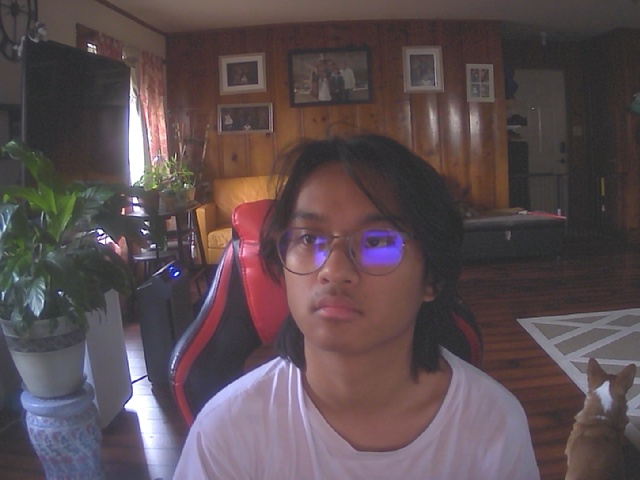neutral: (275, 138, 445, 355)
